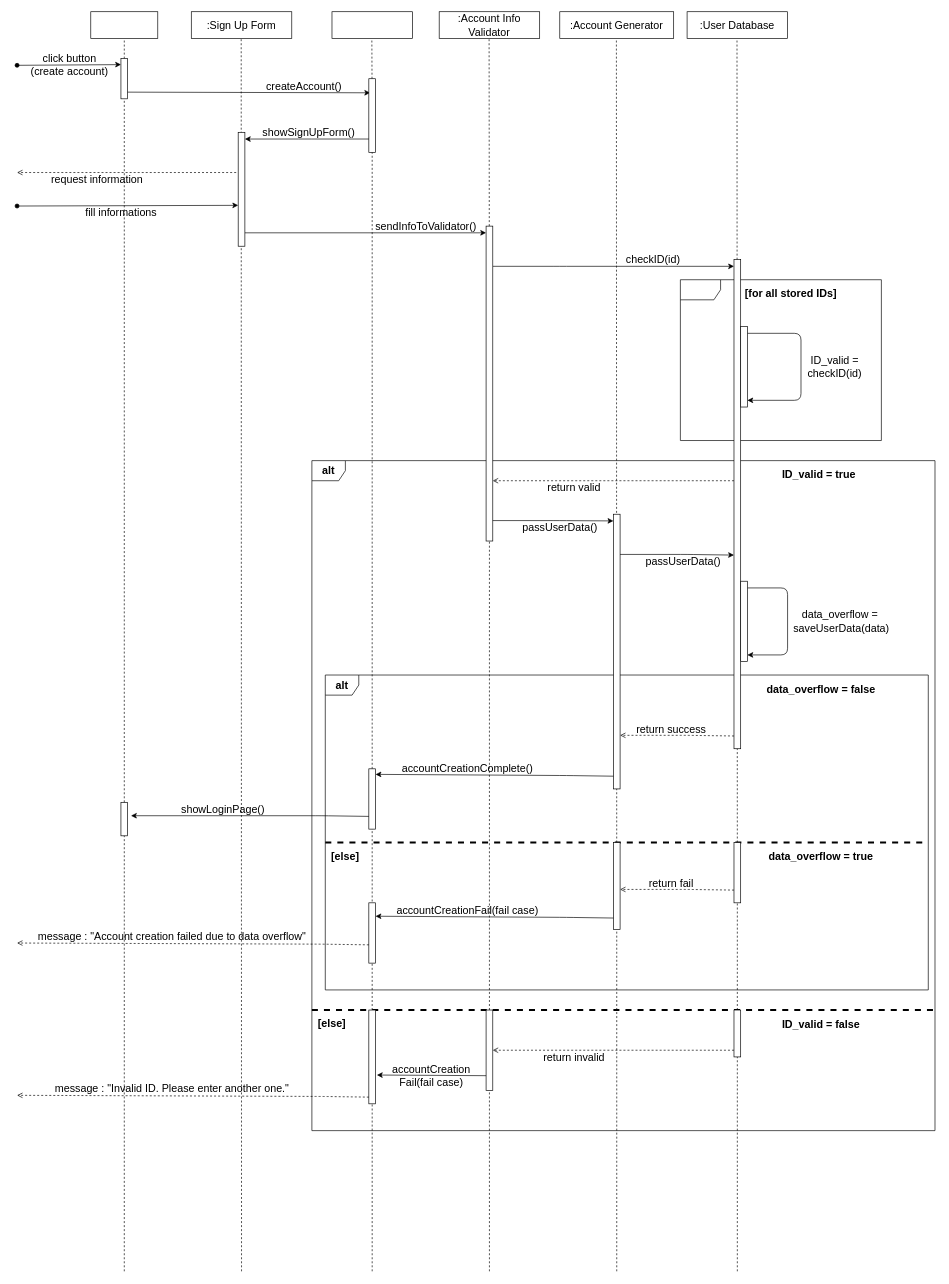
The diagram is 949 pixels wide and 1284 high, and some of its shapes have lost their labels. The shapes that lost their labels are listed below. From the top down, each one's box as (x1, y1, x2, y2) in pixels, then its label:
(90, 11, 158, 39): :Login Page
(331, 11, 412, 39): :Controller
(680, 279, 881, 441): loop
